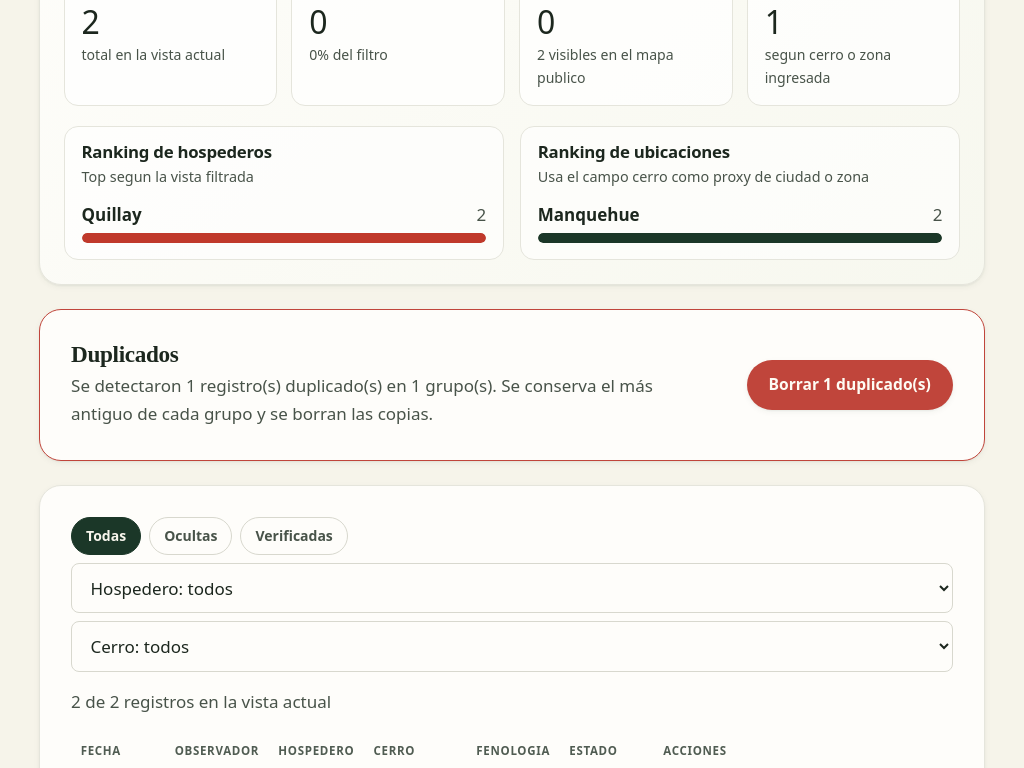
Test: flujo borrar duplicados › muestra error y no queda congelado si el borrado falla
(page scrolled)
Click the button "Borrar 1 duplicado(s)".
click(850, 385)  # box [746,360,953,410]
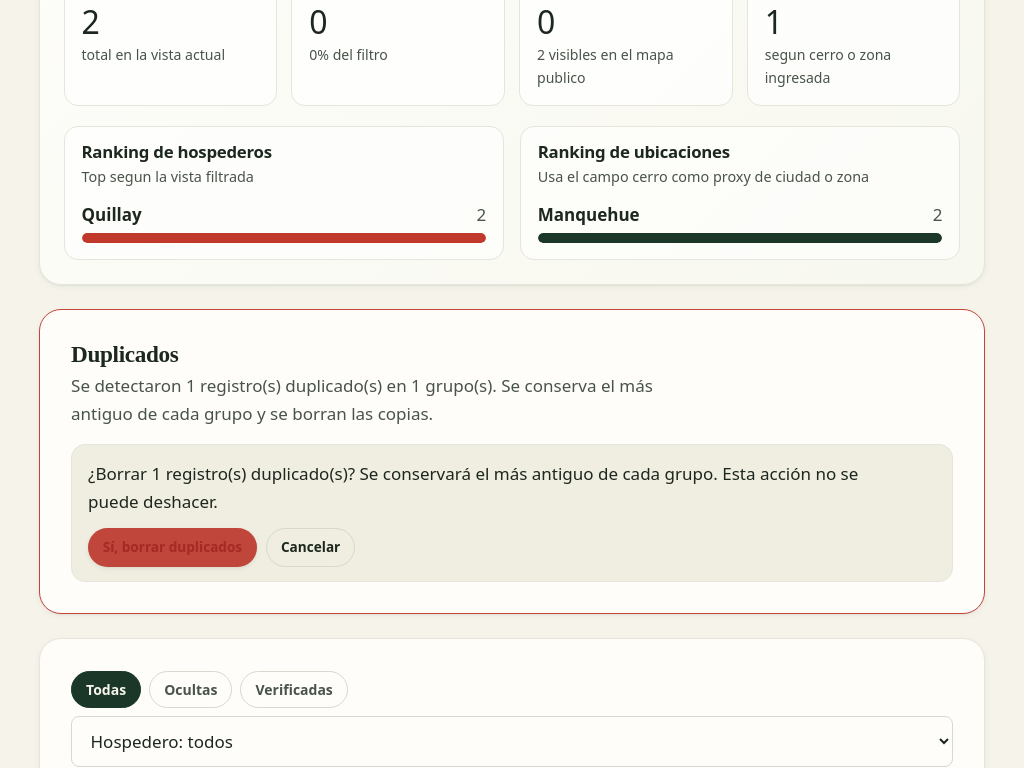
Click the button "Sí, borrar duplicados".
click(172, 547)  # box [88,528,257,566]
(page scrolled)
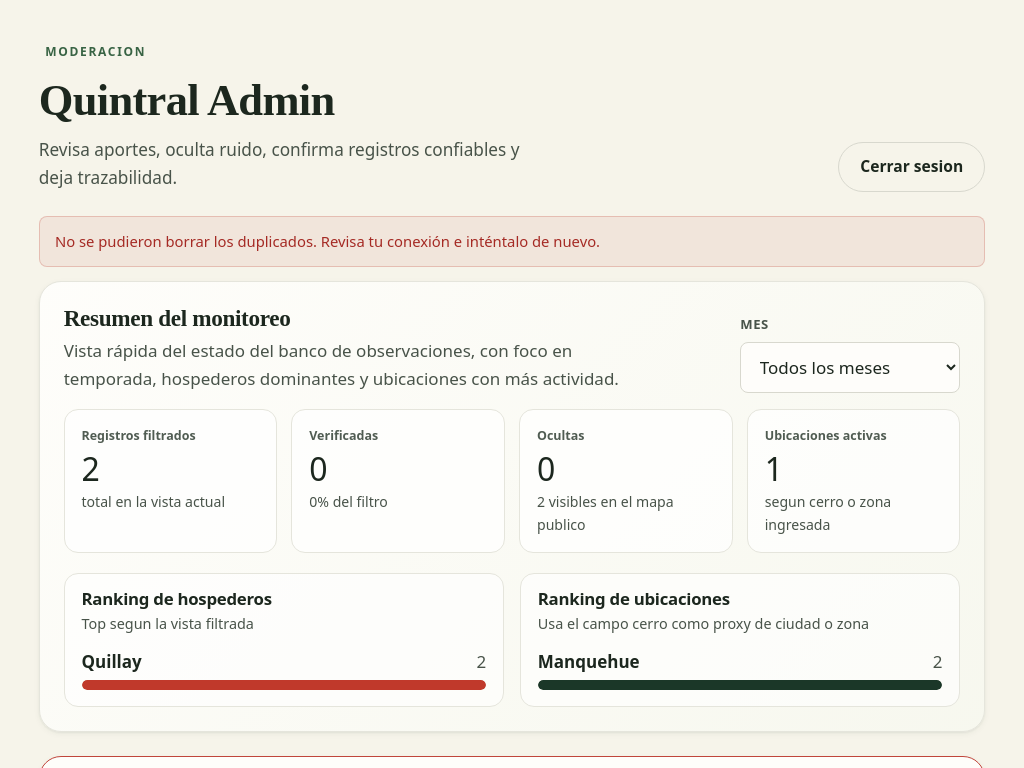
Result: the text "No se pudieron borrar" is shown at [55,231,600,251]
